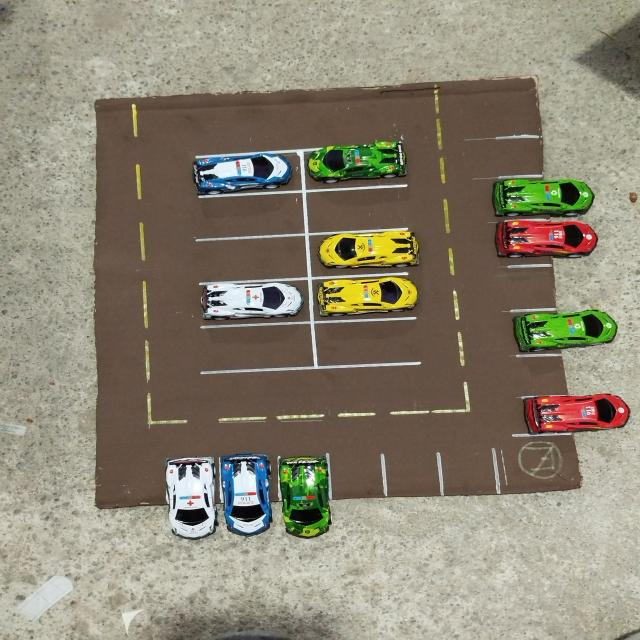libre: (96, 459, 164, 543), (190, 192, 310, 236), (196, 327, 315, 368), (193, 237, 309, 279), (438, 454, 497, 535), (502, 266, 618, 307), (313, 322, 424, 364), (383, 453, 439, 535), (514, 355, 632, 393), (329, 454, 383, 536), (305, 190, 414, 228)
no_estacionarse: (495, 436, 585, 496)
ocupado: (275, 452, 335, 540), (507, 312, 632, 352), (193, 280, 311, 322), (165, 456, 221, 544), (219, 455, 274, 540), (520, 392, 633, 433), (307, 234, 423, 272), (494, 220, 598, 262), (308, 278, 420, 316), (191, 155, 300, 194), (302, 147, 413, 185), (492, 178, 594, 216), (496, 139, 592, 175)
